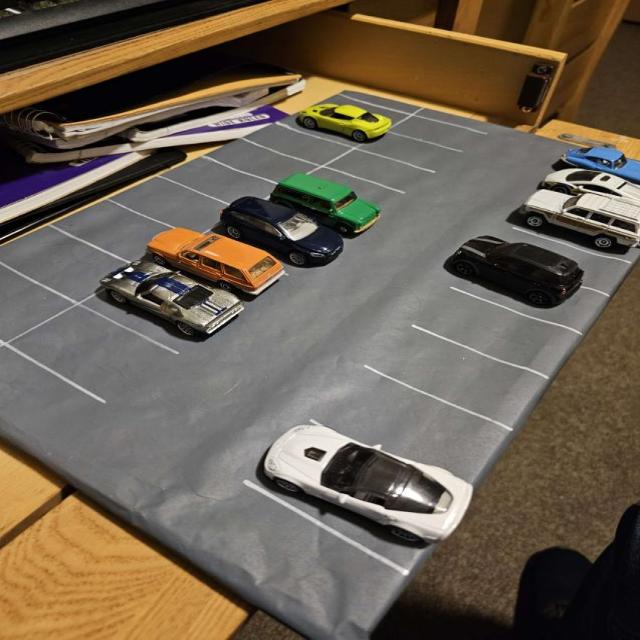Empty: (306, 364, 516, 493), (362, 324, 552, 432), (0, 301, 187, 408), (409, 286, 583, 380), (0, 225, 154, 307), (44, 198, 198, 265), (104, 174, 247, 236), (157, 152, 288, 212), (0, 260, 84, 347), (316, 146, 444, 197), (201, 135, 327, 186), (241, 119, 363, 169), (346, 130, 469, 175), (294, 163, 411, 210), (379, 113, 495, 154)
Taken: (241, 419, 476, 579), (69, 263, 256, 361), (450, 252, 610, 333), (141, 233, 294, 312), (205, 202, 345, 275), (509, 193, 638, 263), (254, 181, 382, 243), (273, 105, 396, 149), (547, 167, 640, 208), (563, 146, 640, 187)
